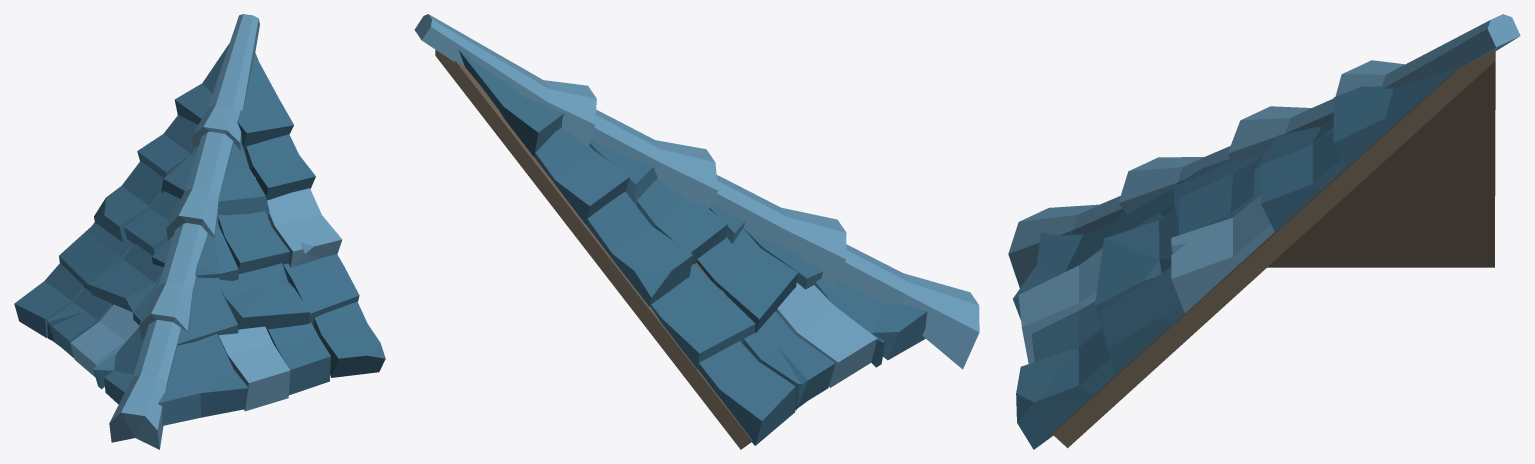
Rendered from ROOF_corner_out_1.fbx.
3 renders of one model, left to right at view 1: azimuth 30°, elevation 25°; view 2: azimuth 150°, elevation 25°; view 3: azimuth 270°, elevation 25°, orthographic. The views are drawn at different scales.
Parts seen in each view (by area): view 1: ROOF_corner_out_1; view 2: ROOF_corner_out_1; view 3: ROOF_corner_out_1.
Part boxes in pixels (x1,y1,x2,y2): ROOF_corner_out_1: (14,14,385,449); ROOF_corner_out_1: (414,14,979,449); ROOF_corner_out_1: (1008,14,1520,449).
Size of the model in its own units: 127 by 123 by 120.
